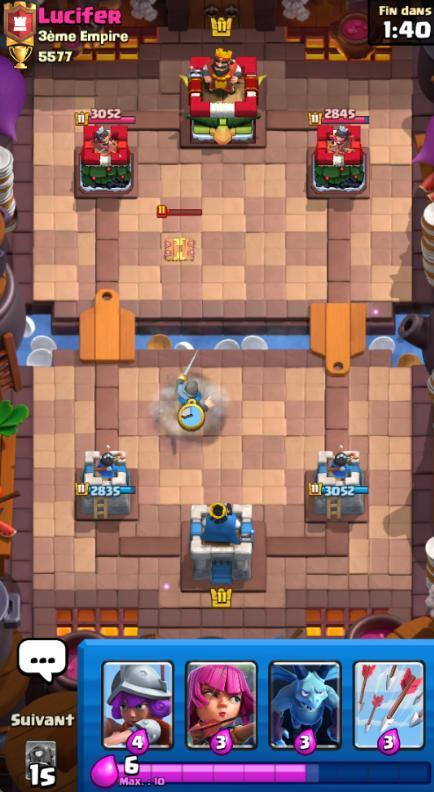enemy_tesla: (143, 200, 209, 270)
player_knight: (171, 364, 214, 413)
